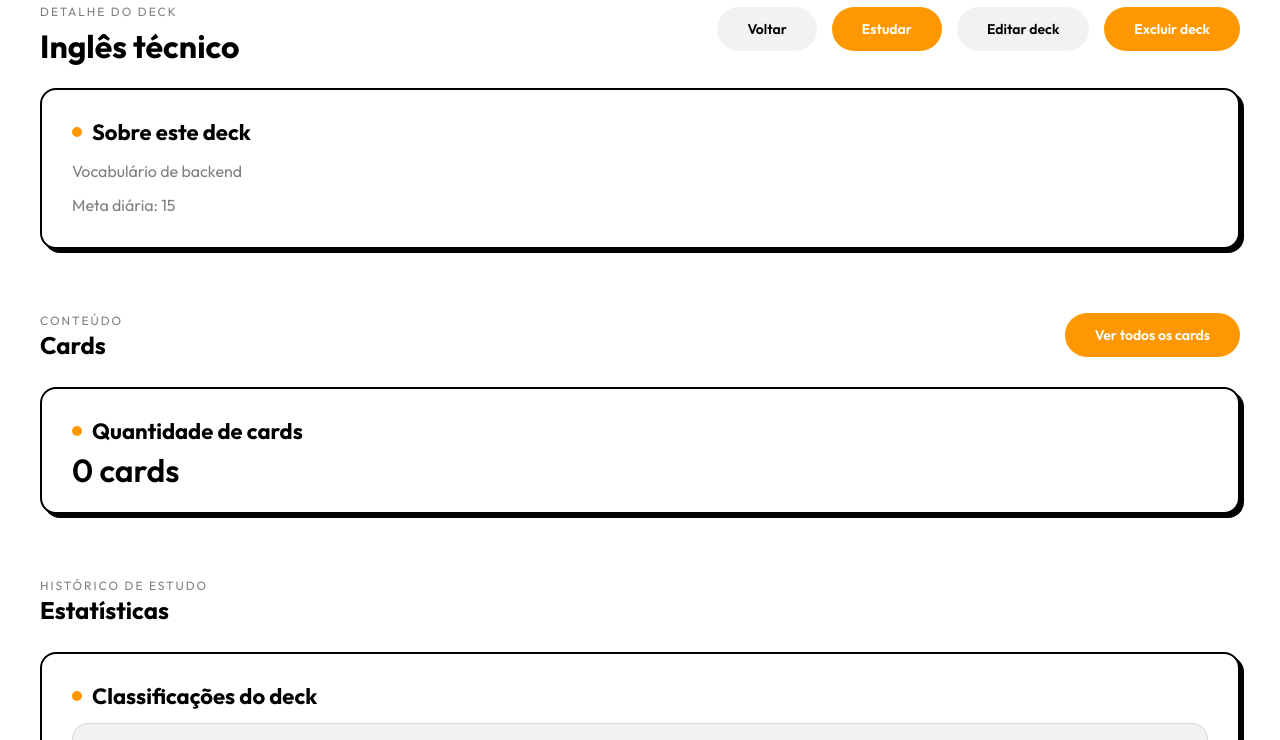
Test case: detalhe do deck › confirma a exclusão do deck, avisa sobre retenção e volta à lista
Click the button "Excluir deck" at {"x": 1172, "y": 29}, box 1104,7 -> 1240,51
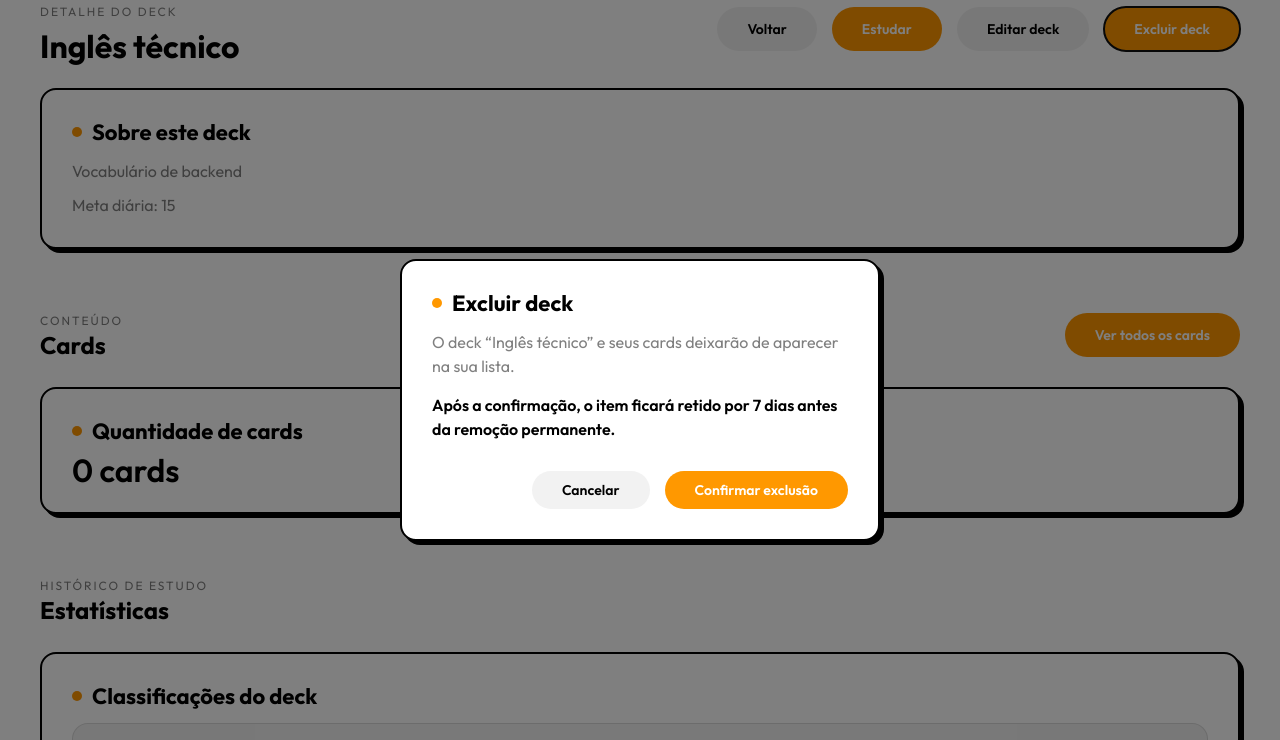
Now the dialog "Excluir deck" shows "7 dias", box 432,395 -> 838,439
Click the button "Confirmar exclusão" at {"x": 756, "y": 490}, box 664,471 -> 848,509
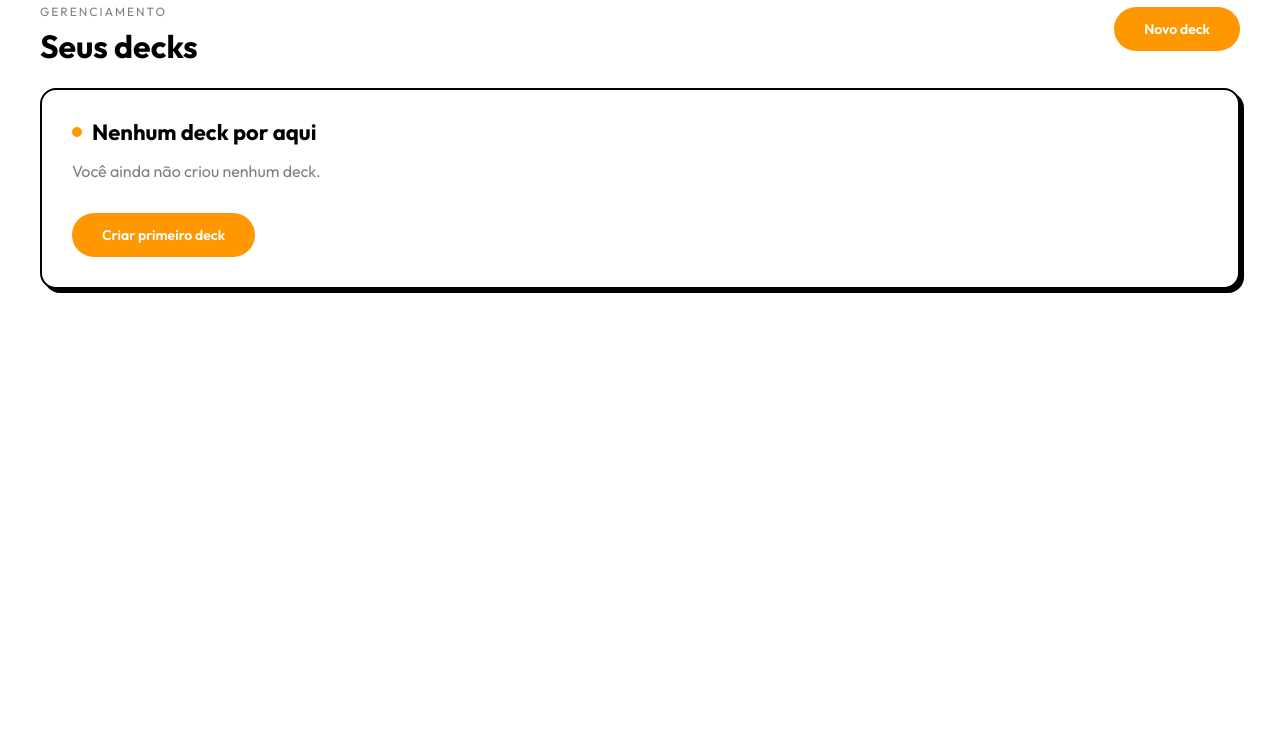
Now the text "Você ainda não criou nenhum deck." is shown, box 72,161 -> 321,181
